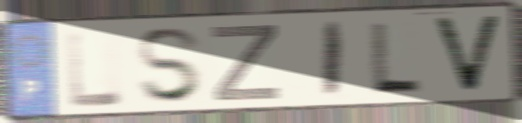I: (320, 19, 346, 101)
L: (65, 28, 126, 110), (367, 19, 425, 95)
S: (134, 25, 205, 106)
V: (428, 13, 505, 96)
Z: (209, 23, 283, 104)
